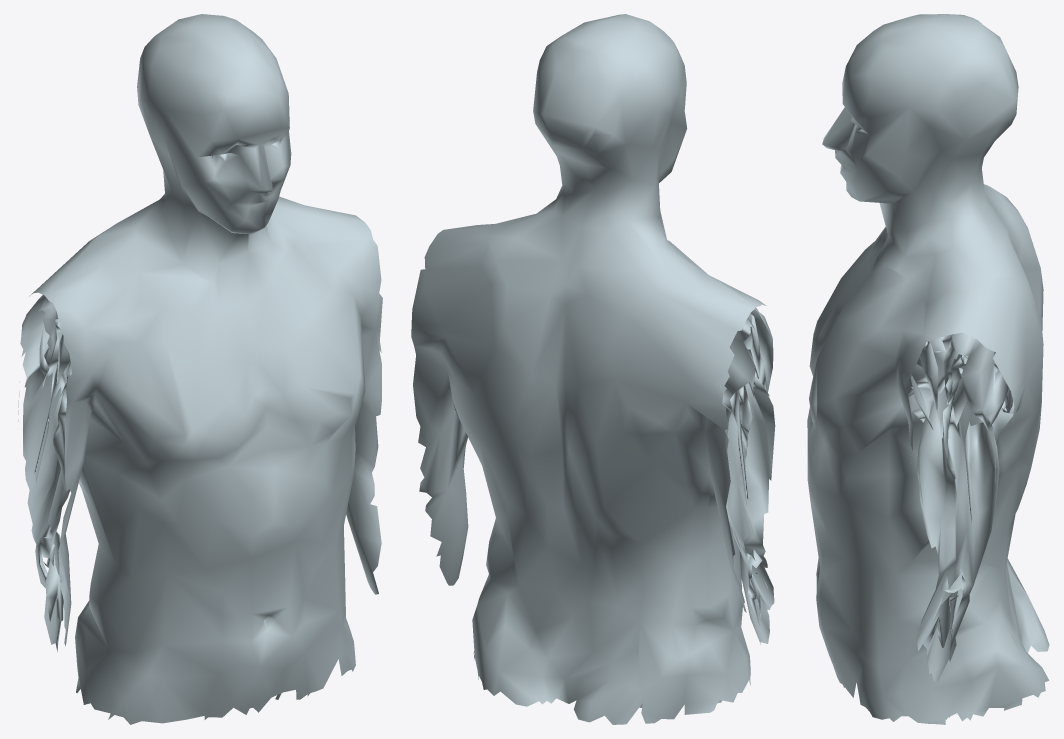
File: torso.glb
3 views of the same model, side by side, from view 1: azimuth 30°, elevation 25°; view 2: azimuth 150°, elevation 25°; view 3: azimuth 270°, elevation 25° (orthographic).
Parts seen in each view (by area): view 1: torso; view 2: torso; view 3: torso.
Part boxes in pixels (<box>): torso: <box>18,14,382,724</box>; torso: <box>411,14,775,724</box>; torso: <box>807,14,1049,724</box>.
Bounding box in the file's own units: 0.4 × 0.7813 × 0.2658.
